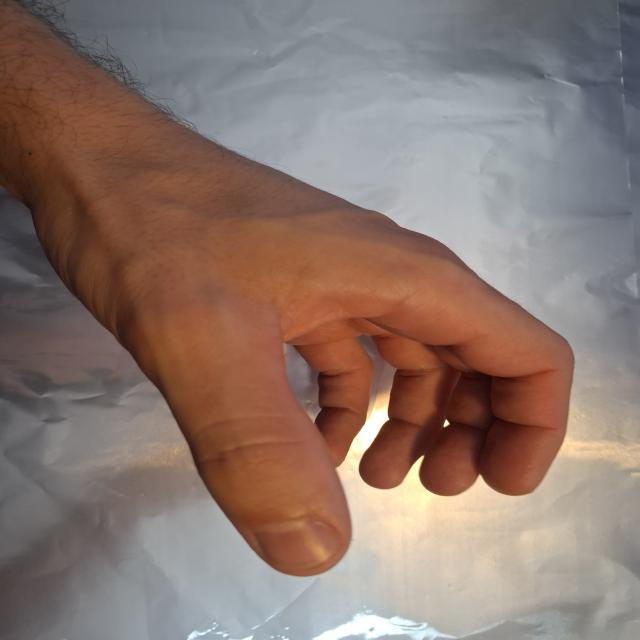glove_off: (18, 118, 579, 578)
